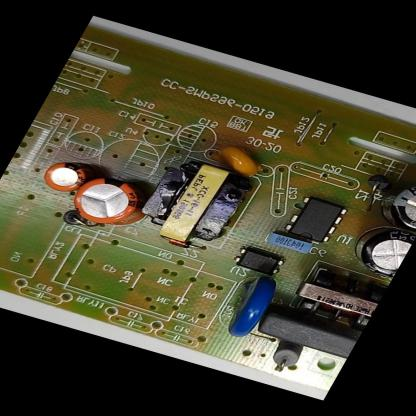Cap1: (64, 163, 166, 237)
Cap2: (32, 154, 99, 202)
Cap3: (337, 217, 415, 283)
Cap4: (368, 171, 416, 235)
MOSFET: (276, 188, 354, 250)
Mov: (208, 266, 287, 347)
Resistor: (261, 339, 311, 379)
Transformer: (125, 147, 265, 255), (279, 258, 391, 335)
